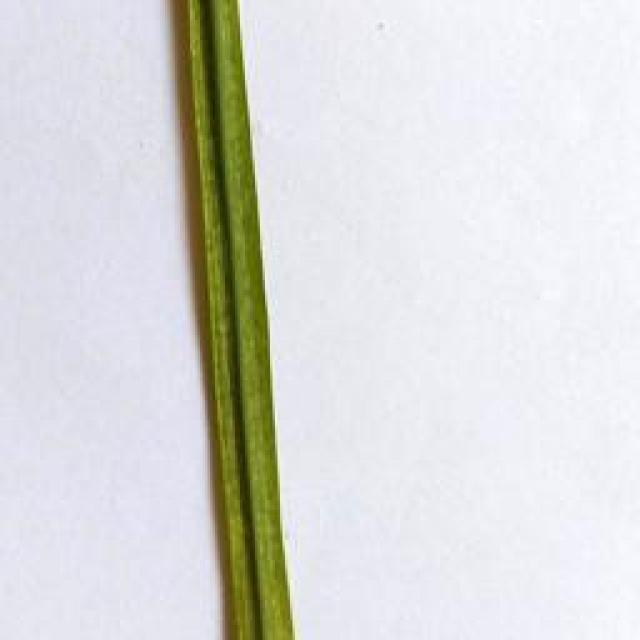Healthy-Plant: (182, 0, 295, 640)
